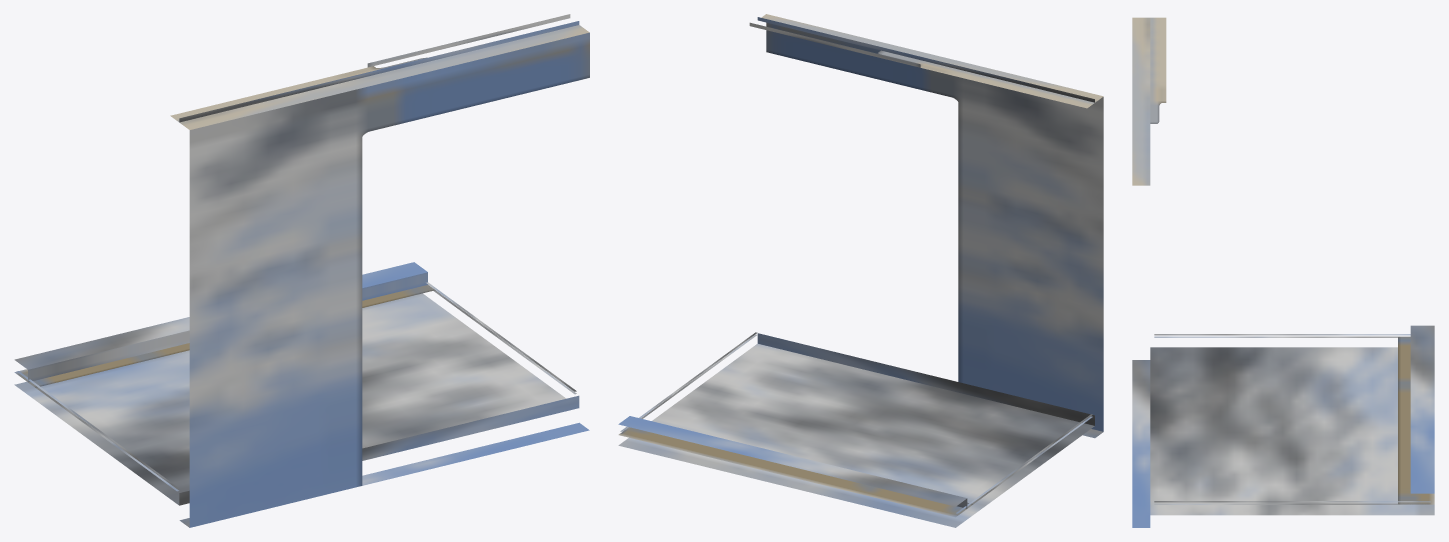
Rendered from section-2.obj.
The picture shows the model from 3 angles, left to right: view 1: azimuth 30°, elevation 25°; view 2: azimuth 150°, elevation 25°; view 3: azimuth 270°, elevation 25°; orthographic projection. The views are drawn at different scales.
Bounding box in the file's own units: 1 × 0.96 × 0.76.
